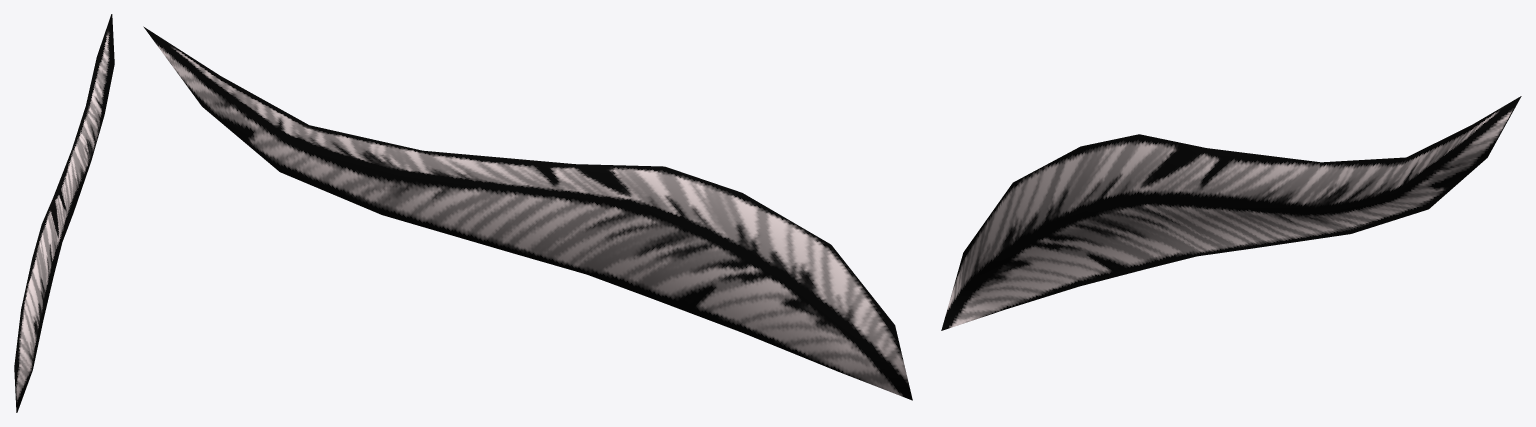
The model's file is Antena.fbx.
3 views of the same model, side by side, from view 1: azimuth 30°, elevation 25°; view 2: azimuth 150°, elevation 25°; view 3: azimuth 270°, elevation 25° (orthographic). The views are drawn at different scales.
Parts seen in each view (by area): view 1: Antena_DemonioAire; view 2: Antena_DemonioAire; view 3: Antena_DemonioAire.
Boxes of the visible parts, bbox=[...] form: Antena_DemonioAire: bbox=[14, 14, 114, 412]; Antena_DemonioAire: bbox=[143, 26, 912, 400]; Antena_DemonioAire: bbox=[941, 96, 1521, 330].
Bounding box in the file's own units: 54.07 × 50.37 × 56.54.
Materials: 1 (1 with a texture image).
